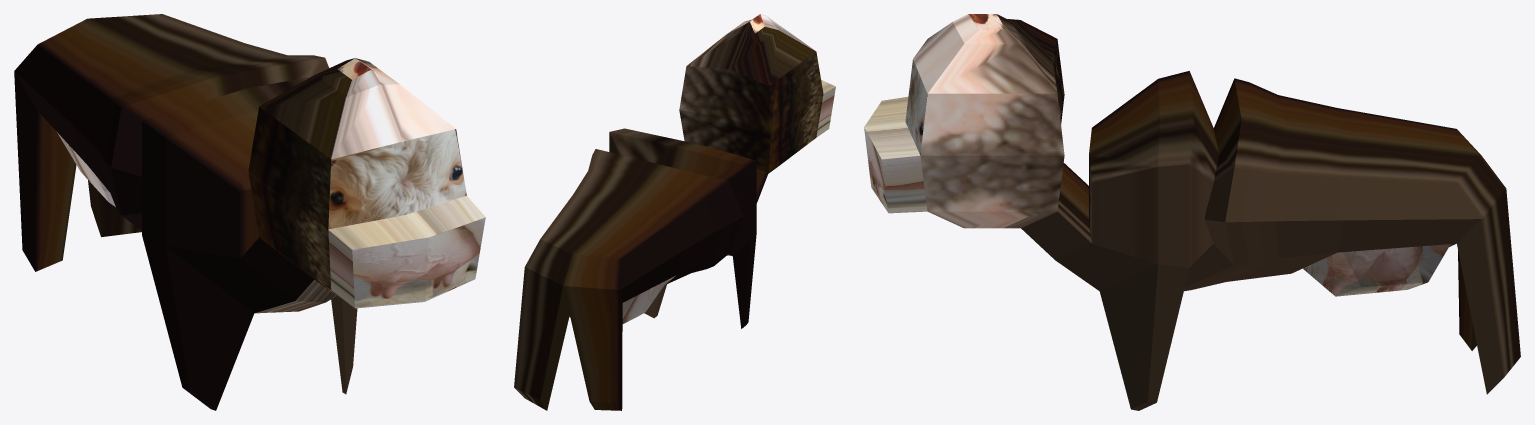
Rendered from cow 1.fbx.
The picture shows the model from 3 angles, left to right: view 1: azimuth 30°, elevation 25°; view 2: azimuth 150°, elevation 25°; view 3: azimuth 270°, elevation 25°; orthographic projection. The views are drawn at different scales.
Visible parts, largest first — view 1: Cube, Cube.002, Cube.001, Cube.003; view 2: Cube, Cube.003, Cube.002; view 3: Cube, Cube.002, Cube.003, Cube.001.
Part boxes in pixels (bbox=[...]): Cube: bbox=[14, 14, 455, 410]; Cube.002: bbox=[328, 195, 485, 308]; Cube.001: bbox=[328, 129, 466, 229]; Cube.003: bbox=[57, 132, 115, 206]; Cube: bbox=[514, 14, 823, 410]; Cube.003: bbox=[569, 279, 668, 323]; Cube.002: bbox=[816, 79, 835, 137]; Cube: bbox=[913, 14, 1520, 410]; Cube.002: bbox=[864, 96, 927, 213]; Cube.003: bbox=[1303, 244, 1450, 296]; Cube.001: bbox=[905, 59, 927, 154].
Size of the model in its own units: 376 by 625 by 1011.
